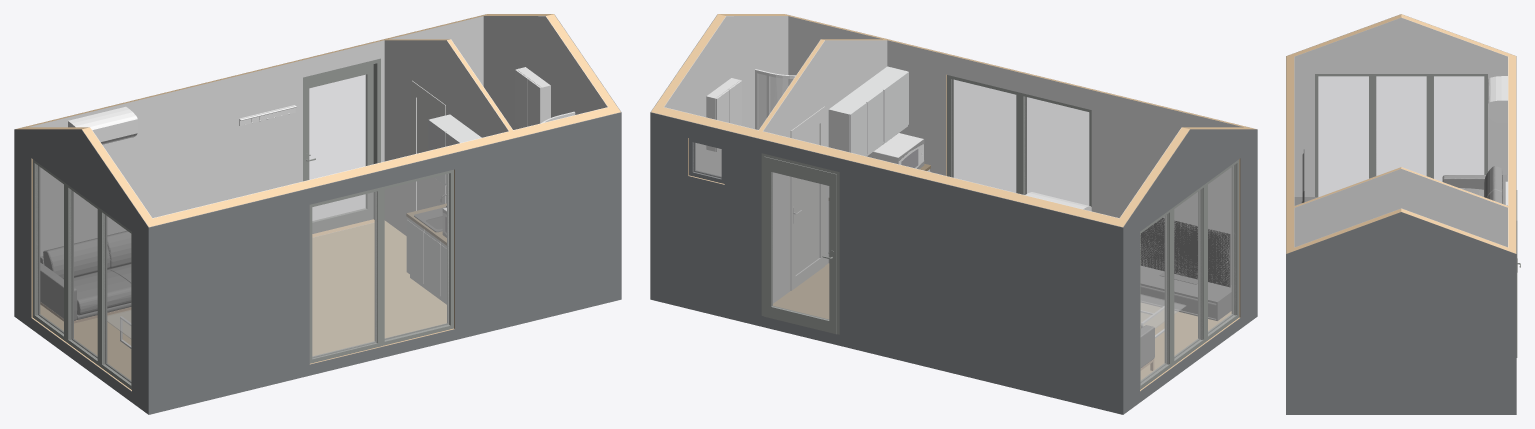
Rendered from info@horecavisual.fbx.
The picture shows the model from 3 angles, left to right: view 1: azimuth 30°, elevation 25°; view 2: azimuth 150°, elevation 25°; view 3: azimuth 270°, elevation 25°; orthographic projection. The views are drawn at different scales.
Visible parts, largest first — view 1: IfcWall/Part:2319977, IfcWall/Part:2319982, IfcSlab/Part:2319985, IfcWall/Part:2368366, IfcWindow/Langai:2100 x 1000 (varstomas-dešininis):2364353, IfcWindow/Langai:2100 x 1000:2364389, IfcDoor/Lauko durys:1000x2100 (kairinės):2375526, IfcWall/Part:2319968, IfcWall/Part:2319979, IfcWindow/Langai:2100 x 800:2368373, IfcWindow/Langai:2100 x 800:2368372, IfcFurnishingElement/Bolia - North Seater Sofa:2 1/2 Seater: (+12 smaller); view 2: IfcWall/Part:2319983, IfcWall/Part:2319976, IfcDoor/Lauko durys:1000x2100 (kairinės):2375526, IfcWall/Part:2368366, IfcWall/Part:2319979, IfcWall/Part:2319968, IfcWindow/Langai:2100 x 1000:2364389, IfcWindow/Langai:2100 x 1000 (varstomas-dešininis):2364353, IfcWindow/Langai:2100 x 800:2368372, IfcWindow/Langai:2100 x 800:2368374, IfcWindow/Langai:2100 x 800:2368373, IfcDoor/Vidaus durys:800x2100mm (dešininės):2324605 (+18 smaller); view 3: IfcWall/Part:2319980, IfcWall/Part:2368365, IfcWall/Part:2319967, IfcWindow/Langai:2100 x 800:2368374, IfcWindow/Langai:2100 x 800:2368372, IfcWindow/Langai:2100 x 800:2368373, IfcWall/Part:2319984, IfcWall/Part:2319978, IfcFurnishingElement/Bolia - North Seater Sofa:2 1/2 Seater:, IfcEnergyConversionDevice/Fujitsu General_ASUA30-36TLAV2:ASU, IfcWall/Part:2319981, IfcWall/Part:2368367 (+3 smaller).
Part boxes in pixels (x1,y1,x2,y2): IfcWall/Part:2319977: (148,112,621,414); IfcWall/Part:2319982: (28,16,483,256); IfcSlab/Part:2319985: (40,221,446,379); IfcWall/Part:2368366: (14,129,148,414); IfcWindow/Langai:2100 x 1000 (varstomas-dešininis):2364353: (309,187,382,363); IfcWindow/Langai:2100 x 1000:2364389: (382,169,453,345); IfcDoor/Lauko durys:1000x2100 (kairinės):2375526: (303,58,380,233); IfcWall/Part:2319968: (384,40,508,235); IfcWall/Part:2319979: (483,16,607,129); IfcWindow/Langai:2100 x 800:2368373: (32,159,66,341); IfcWindow/Langai:2100 x 800:2368372: (66,184,100,366); IfcFurnishingElement/Bolia - North Seater Sofa:2 1/2 Seater:: (40,231,131,323); IfcWall/Part:2319983: (650,112,1123,414); IfcWall/Part:2319976: (788,16,1243,284); IfcDoor/Lauko durys:1000x2100 (kairinės):2375526: (761,153,839,334); IfcWall/Part:2368366: (1123,129,1257,414); IfcWall/Part:2319979: (664,16,788,176); IfcWall/Part:2319968: (763,40,887,303); IfcWindow/Langai:2100 x 1000:2364389: (947,75,1020,193); IfcWindow/Langai:2100 x 1000 (varstomas-dešininis):2364353: (1021,93,1091,206); IfcWindow/Langai:2100 x 800:2368372: (1171,183,1206,366); IfcWindow/Langai:2100 x 800:2368374: (1205,159,1239,341); IfcWindow/Langai:2100 x 800:2368373: (1140,208,1172,389); IfcDoor/Vidaus durys:800x2100mm (dešininės):2324605: (789,103,825,291); IfcWall/Part:2319980: (1286,212,1516,414); IfcWall/Part:2368365: (1294,17,1507,196); IfcWall/Part:2319967: (1294,168,1507,247); IfcWindow/Langai:2100 x 800:2368374: (1315,74,1373,196); IfcWindow/Langai:2100 x 800:2368372: (1371,74,1431,177); IfcWindow/Langai:2100 x 800:2368373: (1429,74,1487,181); IfcWall/Part:2319984: (1508,53,1516,253); IfcWall/Part:2319978: (1286,53,1294,250); IfcFurnishingElement/Bolia - North Seater Sofa:2 1/2 Seater:: (1442,166,1507,204); IfcEnergyConversionDevice/Fujitsu General_ASUA30-36TLAV2:ASU: (1488,76,1507,122); IfcWall/Part:2319981: (1286,208,1508,253); IfcWall/Part:2368367: (1294,14,1508,56).
Bounding box in the file's own units: 650 × 311 × 326.
